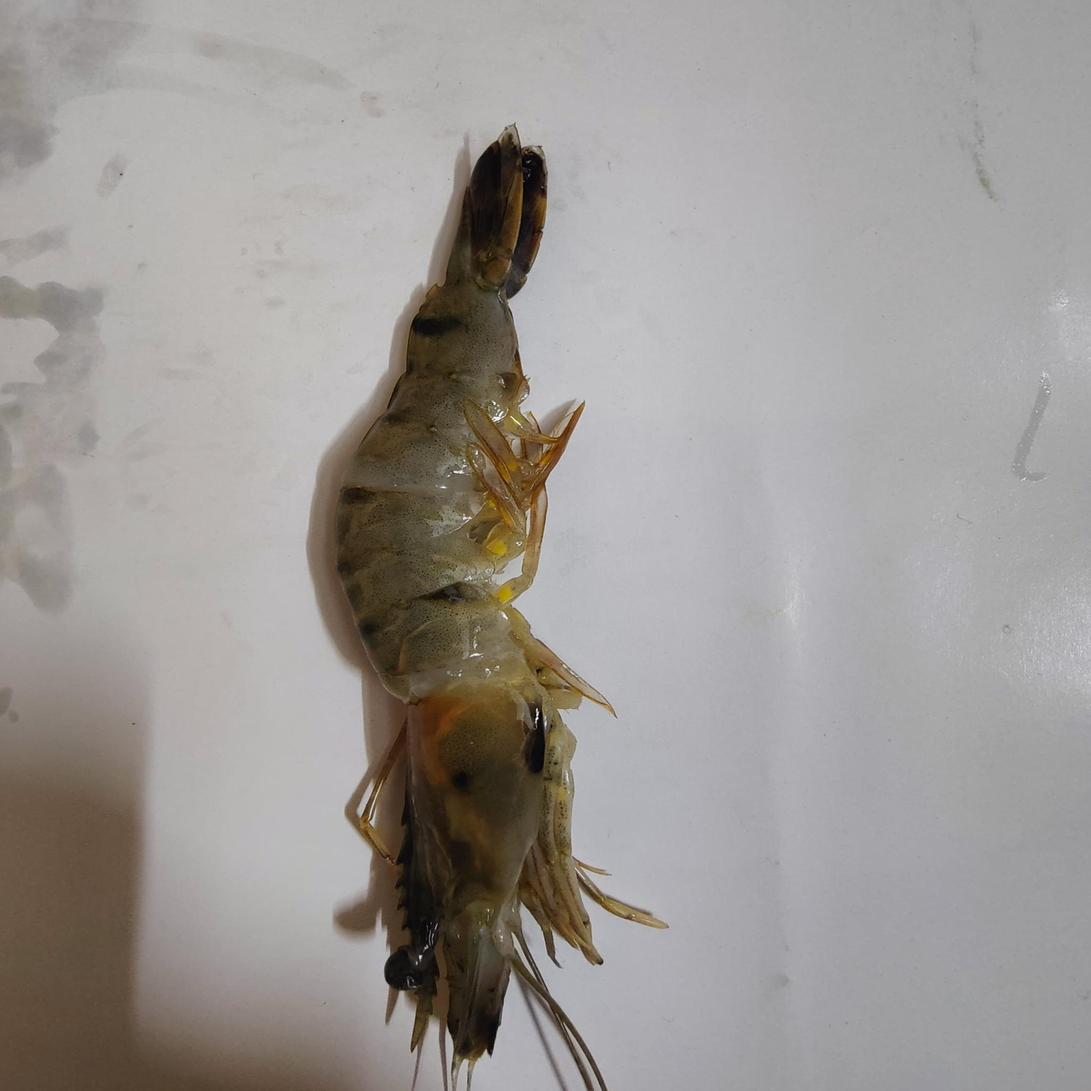blackgill: (432, 687, 558, 850)
